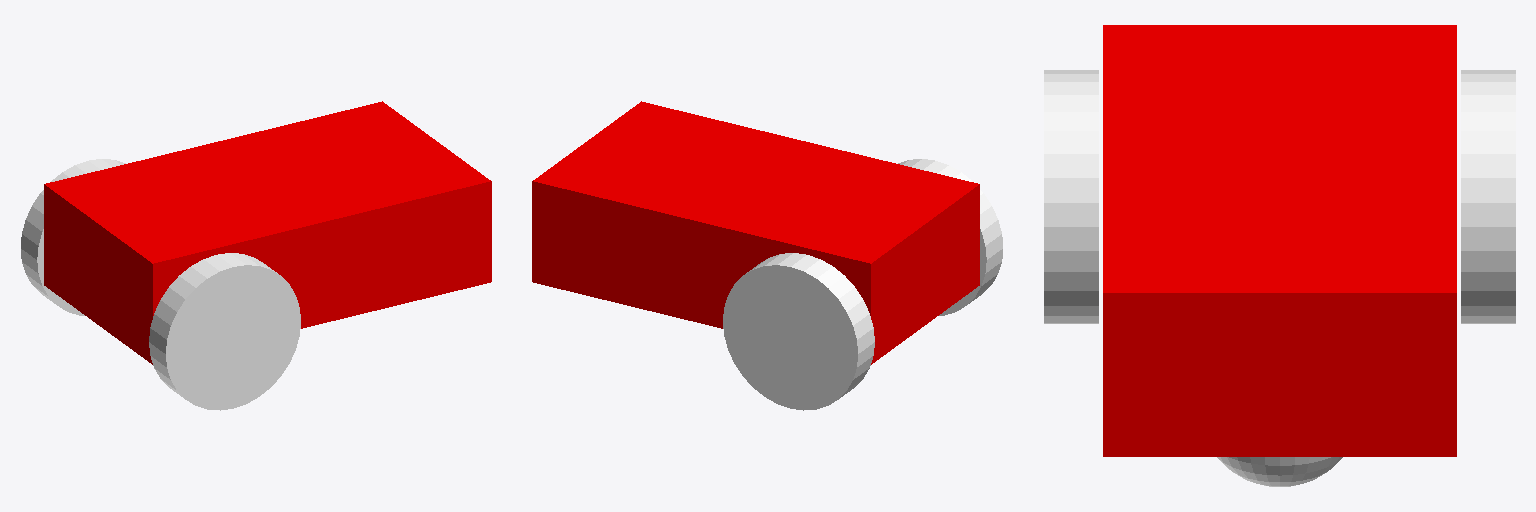
URDF robot description (isi_robot):
<?xml version="1.0" ?>
<!-- =================================================================================== -->
<!-- |    This document was autogenerated by xacro from automation_robot_description.urdf.xacro | -->
<!-- |    EDITING THIS FILE BY HAND IS NOT RECOMMENDED                                 | -->
<!-- =================================================================================== -->
<robot name="isi_robot">
  <!-- ****************** ROBOT BASE FOOTPRINT ***************************  -->
  <!-- Define the center of the main robot chassis projected on the ground -->
  <link name="base_footprint"/>
  <!-- The base footprint of the robot is located underneath the chassis -->
  <joint name="base_joint" type="fixed">
    <parent link="base_footprint"/>
    <child link="base_link"/>
    <origin rpy="0 0 0" xyz="0.0 0.0 0.19"/>
  </joint>
  <!-- ********************** ROBOT BASE *********************************  -->
  <link name="base_link">
    <visual>
      <origin rpy="0.0 0 0.0" xyz="0 0 0.0"/>
      <geometry>
        <box size="0.7 0.39 0.2"/>
      </geometry>
      <material name="Red">
        <color rgba="1.0 0.0 0.0 1.0"/>
      </material>
    </visual>
    <collision>
      <geometry>
        <box size="0.7 0.39 0.2"/>
      </geometry>
    </collision>
    <inertial>
      <origin rpy="1.5707963267948966 0 1.5707963267948966" xyz="0 0 0"/>
      <mass value="40.0"/>
      <inertia ixx="1.7666666666666664" ixy="0.0" ixz="0.0" iyy="2.140333333333333" iyz="0.0" izz="0.6403333333333334"/>
    </inertial>
  </link>
  <!-- *********************** DRIVE WHEELS ******************************  -->
  <link name="drivewhl_l_link">
    <visual>
      <origin rpy="1.5707963267949 0 0" xyz="0 0 0"/>
      <geometry>
        <cylinder length="0.06" radius="0.14"/>
      </geometry>
      <material name="White">
        <color rgba="1.0 1.0 1.0 1.0"/>
      </material>
    </visual>
    <collision>
      <origin rpy="1.5707963267948966 0 0" xyz="0 0 0"/>
      <geometry>
        <cylinder length="0.06" radius="0.14"/>
      </geometry>
    </collision>
    <inertial>
      <origin rpy="1.5707963267948966 0 0" xyz="0 0 0"/>
      <mass value="110.5"/>
      <inertia ixx="0.5746000000000001" ixy="0" ixz="0" iyy="0.5746000000000001" iyz="0" izz="1.0829000000000002"/>
    </inertial>
  </link>
  <!-- Connect the wheels to the base_link at the appropriate location, and 
         define a continuous joint to allow the wheels to freely rotate about
         an axis -->
  <joint name="drivewhl_l_joint" type="revolute">
    <parent link="base_link"/>
    <child link="drivewhl_l_link"/>
    <origin rpy="0 0 0" xyz="-0.221 0.23 -0.05"/>
    <limit effort="30" lower="-1.79769e+308" upper="1.79769e+308" velocity="5.0"/>
    <axis xyz="0 1 0"/>
  </joint>
  <link name="drivewhl_r_link">
    <visual>
      <origin rpy="1.5707963267949 0 0" xyz="0 0 0"/>
      <geometry>
        <cylinder length="0.06" radius="0.14"/>
      </geometry>
      <material name="White">
        <color rgba="1.0 1.0 1.0 1.0"/>
      </material>
    </visual>
    <collision>
      <origin rpy="1.5707963267948966 0 0" xyz="0 0 0"/>
      <geometry>
        <cylinder length="0.06" radius="0.14"/>
      </geometry>
    </collision>
    <inertial>
      <origin rpy="1.5707963267948966 0 0" xyz="0 0 0"/>
      <mass value="110.5"/>
      <inertia ixx="0.5746000000000001" ixy="0" ixz="0" iyy="0.5746000000000001" iyz="0" izz="1.0829000000000002"/>
    </inertial>
  </link>
  <!-- Connect the wheels to the base_link at the appropriate location, and 
         define a continuous joint to allow the wheels to freely rotate about
         an axis -->
  <joint name="drivewhl_r_joint" type="revolute">
    <parent link="base_link"/>
    <child link="drivewhl_r_link"/>
    <origin rpy="0 0 0" xyz="-0.221 -0.23 -0.05"/>
    <limit effort="30" lower="-1.79769e+308" upper="1.79769e+308" velocity="5.0"/>
    <axis xyz="0 1 0"/>
  </joint>
  <!-- *********************** CASTER WHEEL ******************************  -->
  <!-- We add a caster wheel. It will be modeled as sphere.
       We define the wheel’s geometry, material and the joint to connect it to 
       base_link at the appropriate location. -->
  <link name="front_caster">
    <visual>
      <geometry>
        <sphere radius="0.09"/>
      </geometry>
      <material name="White">
        <color rgba="1.0 1.0 1.0 1.0"/>
      </material>
    </visual>
    <collision>
      <origin rpy="0 0 0" xyz="0 0 0"/>
      <geometry>
        <sphere radius="0.09"/>
      </geometry>
    </collision>
    <inertial>
      <mass value="10.05"/>
      <inertia ixx="0.032562" ixy="0.0" ixz="0.0" iyy="0.032562" iyz="0.0" izz="0.032562"/>
    </inertial>
  </link>
  <gazebo reference="front_caster">
    <mu1>0.01</mu1>
    <mu2>0.01</mu2>
  </gazebo>
  <joint name="caster_joint" type="fixed">
    <parent link="base_link"/>
    <child link="front_caster"/>
    <origin rpy="0 0 0" xyz="0.217 0.0 -0.1"/>
  </joint>
  <!-- *********************** IMU SETUP *********************************  -->
  <!-- Each sensor must be attached to a link.                              -->
  <joint name="imu_joint" type="fixed">
    <parent link="base_link"/>
    <child link="imu_link"/>
    <origin rpy="0 0 0" xyz="-0.10 0 0.05"/>
  </joint>
  <link name="imu_link"/>
  <!-- *********************** GPS SETUP **********************************  -->
  <joint name="gps_joint" type="fixed">
    <parent link="base_link"/>
    <child link="gps_link"/>
    <origin rpy="0 0 0" xyz="0.10 0 0.05"/>
  </joint>
  <link name="gps_link"/>
  <!-- *********************  LIDAR SETUP ******************************** -->
  <!-- LiDAR Link -->
  <link name="lidar_link">
    <visual>
      <geometry>
        <box size="0.025 0.025 0.025"/>
      </geometry>
      <material name="Blue">
        <color rgba="0 0 1 1.0"/>
      </material>
    </visual>
    <collision>
      <geometry>
        <box size="0.025 0.025 0.025"/>
      </geometry>
    </collision>
    <inertial>
      <mass value="0.1"/>
      <inertia ixx="0.000166667" ixy="0.0" ixz="0.0" iyy="0.000166667" iyz="0.0" izz="0.000166667"/>
    </inertial>
  </link>
  <!-- LiDAR Joint -->
  <joint name="lidar_joint" type="fixed">
    <parent link="base_link"/>
    <child link="lidar_link"/>
    <!--origin xyz="0.0 0.0 ${(-wheel_radius+wheel_zoff)}" rpy="0 1.57 0"/-->
    <origin rpy="0 1.57 0" xyz="0.0 0.0 -0.1125"/>
  </joint>
  <gazebo reference="lidar_link">
    <sensor name="lidar_sensor" type="gpu_ray">
      <topic>/lidar</topic>
      <!--pose>z y x r p y</pose-->
      <pose>0.0 0 0 0 0 0</pose>
      <visualize>true</visualize>
      <update_rate>10</update_rate>
      <ray>
        <scan>
          <horizontal>
            <samples>1</samples>
            <resolution>1</resolution>
            <min_angle>0</min_angle>
            <max_angle>0</max_angle>
          </horizontal>
          <vertical>
            <samples>1</samples>
            <resolution>1</resolution>
            <min_angle>0</min_angle>
            <max_angle>0</max_angle>
          </vertical>
        </scan>
        <range>
          <min>0.01</min>
          <max>10.0</max>
          <resolution>0.01</resolution>
        </range>
        <noise>
          <type>gaussian</type>
          <mean>0.0</mean>
          <stddev>0.01</stddev>
        </noise>
      </ray>
      
      <plugin filename="libignition-gazebo-sensors-system.so" name="ignition::gazebo::systems::Sensors">
		   <topicName>/lidar</topicName>
		   <frameName>lidar_link</frameName>
		</plugin>
    </sensor>
  </gazebo>
  <!-- *********************  Gazebo Plugin - Diff Drive ******************************** -->
  <gazebo>
    <plugin filename="ignition-gazebo-diff-drive-system" name="ignition::gazebo::systems::DiffDrive">
      <left_joint>drivewhl_l_joint</left_joint>
      <right_joint>drivewhl_r_joint</right_joint>
      <wheel_separation>0.7</wheel_separation>
      <wheel_radius>0.14</wheel_radius>
      <odom_publish_frequency>1</odom_publish_frequency>
      <topic>/cmd_vel</topic>
    </plugin>
  </gazebo>
  <!-- *********************  Gazebo Plugin - Magnetic Force ******************************** -->
  <gazebo>
	<plugin name="magnetic_adhesion_plugin" filename="libmagnetic_adhesion_plugin.so"/>
  </gazebo>
</robot>

--- Render facts (derived) ---
Views: 3 orthographic renders of the robot side by side, from view 1: azimuth 30°, elevation 25°; view 2: azimuth 150°, elevation 25°; view 3: azimuth 270°, elevation 25°.
Robot: isi_robot — 8 links, 7 joints (2 revolute, 5 fixed); root link base_footprint; default pose: all joints at 0.
Links seen in each view (by area): view 1: base_link, drivewhl_r_link, drivewhl_l_link; view 2: base_link, drivewhl_l_link, drivewhl_r_link; view 3: base_link, drivewhl_l_link, drivewhl_r_link, front_caster.
Boxes of the visible links, left/top/right/bottom form: base_link: left=44, top=101, right=491, bottom=364; drivewhl_r_link: left=149, top=253, right=300, bottom=410; drivewhl_l_link: left=21, top=159, right=125, bottom=315; base_link: left=532, top=101, right=979, bottom=364; drivewhl_l_link: left=723, top=253, right=874, bottom=410; drivewhl_r_link: left=898, top=159, right=1002, bottom=315; base_link: left=1103, top=25, right=1456, bottom=456; drivewhl_l_link: left=1461, top=70, right=1515, bottom=323; drivewhl_r_link: left=1044, top=70, right=1098, bottom=323; front_caster: left=1217, top=457, right=1342, bottom=486.
Size in the robot's own frame: 0.711 by 0.52 by 0.29 metres.
Geometry: primitives only (box / cylinder / sphere), no mesh files.